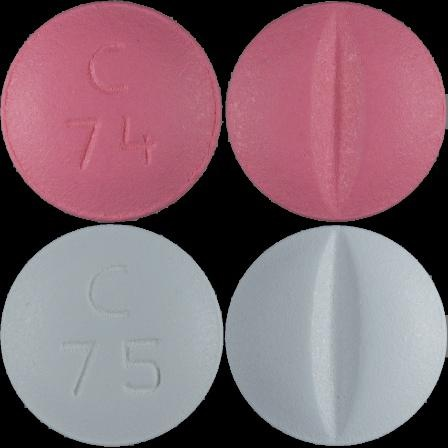62584-266: (0, 0, 224, 224)
